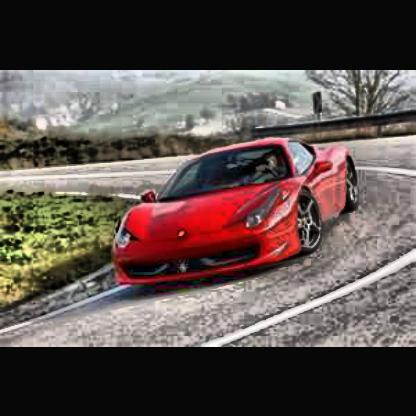Ferrari 458 Italia Coupe 2012: (113, 138, 365, 287)
